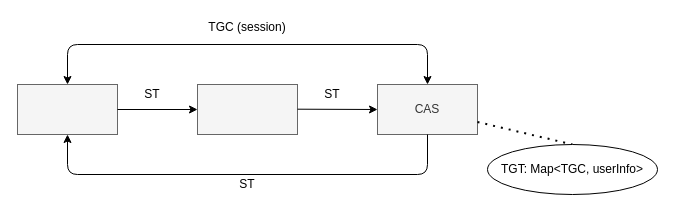
The diagram is 675 pixels wide and 212 high, and some of its shapes have lost their labels. Each missing label, with the box of its shape:
Client: (16, 84, 118, 134)
Web App: (196, 84, 298, 134)
